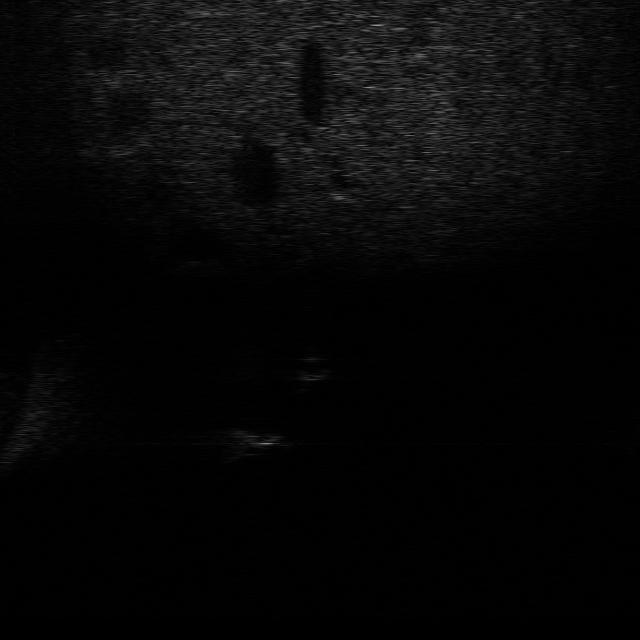ball: (285, 351, 339, 383)
square cage: (215, 424, 290, 459)
